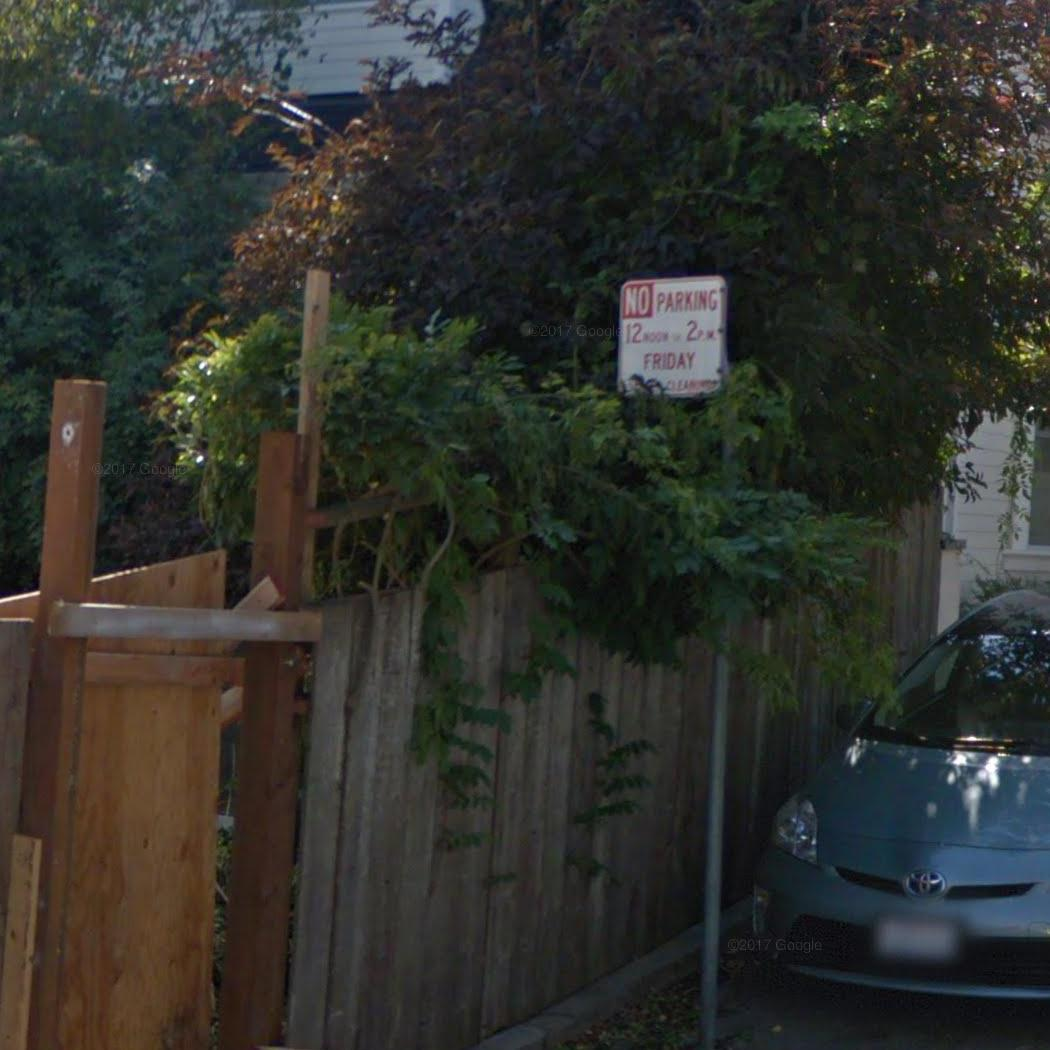No Parking: (613, 271, 731, 403)
